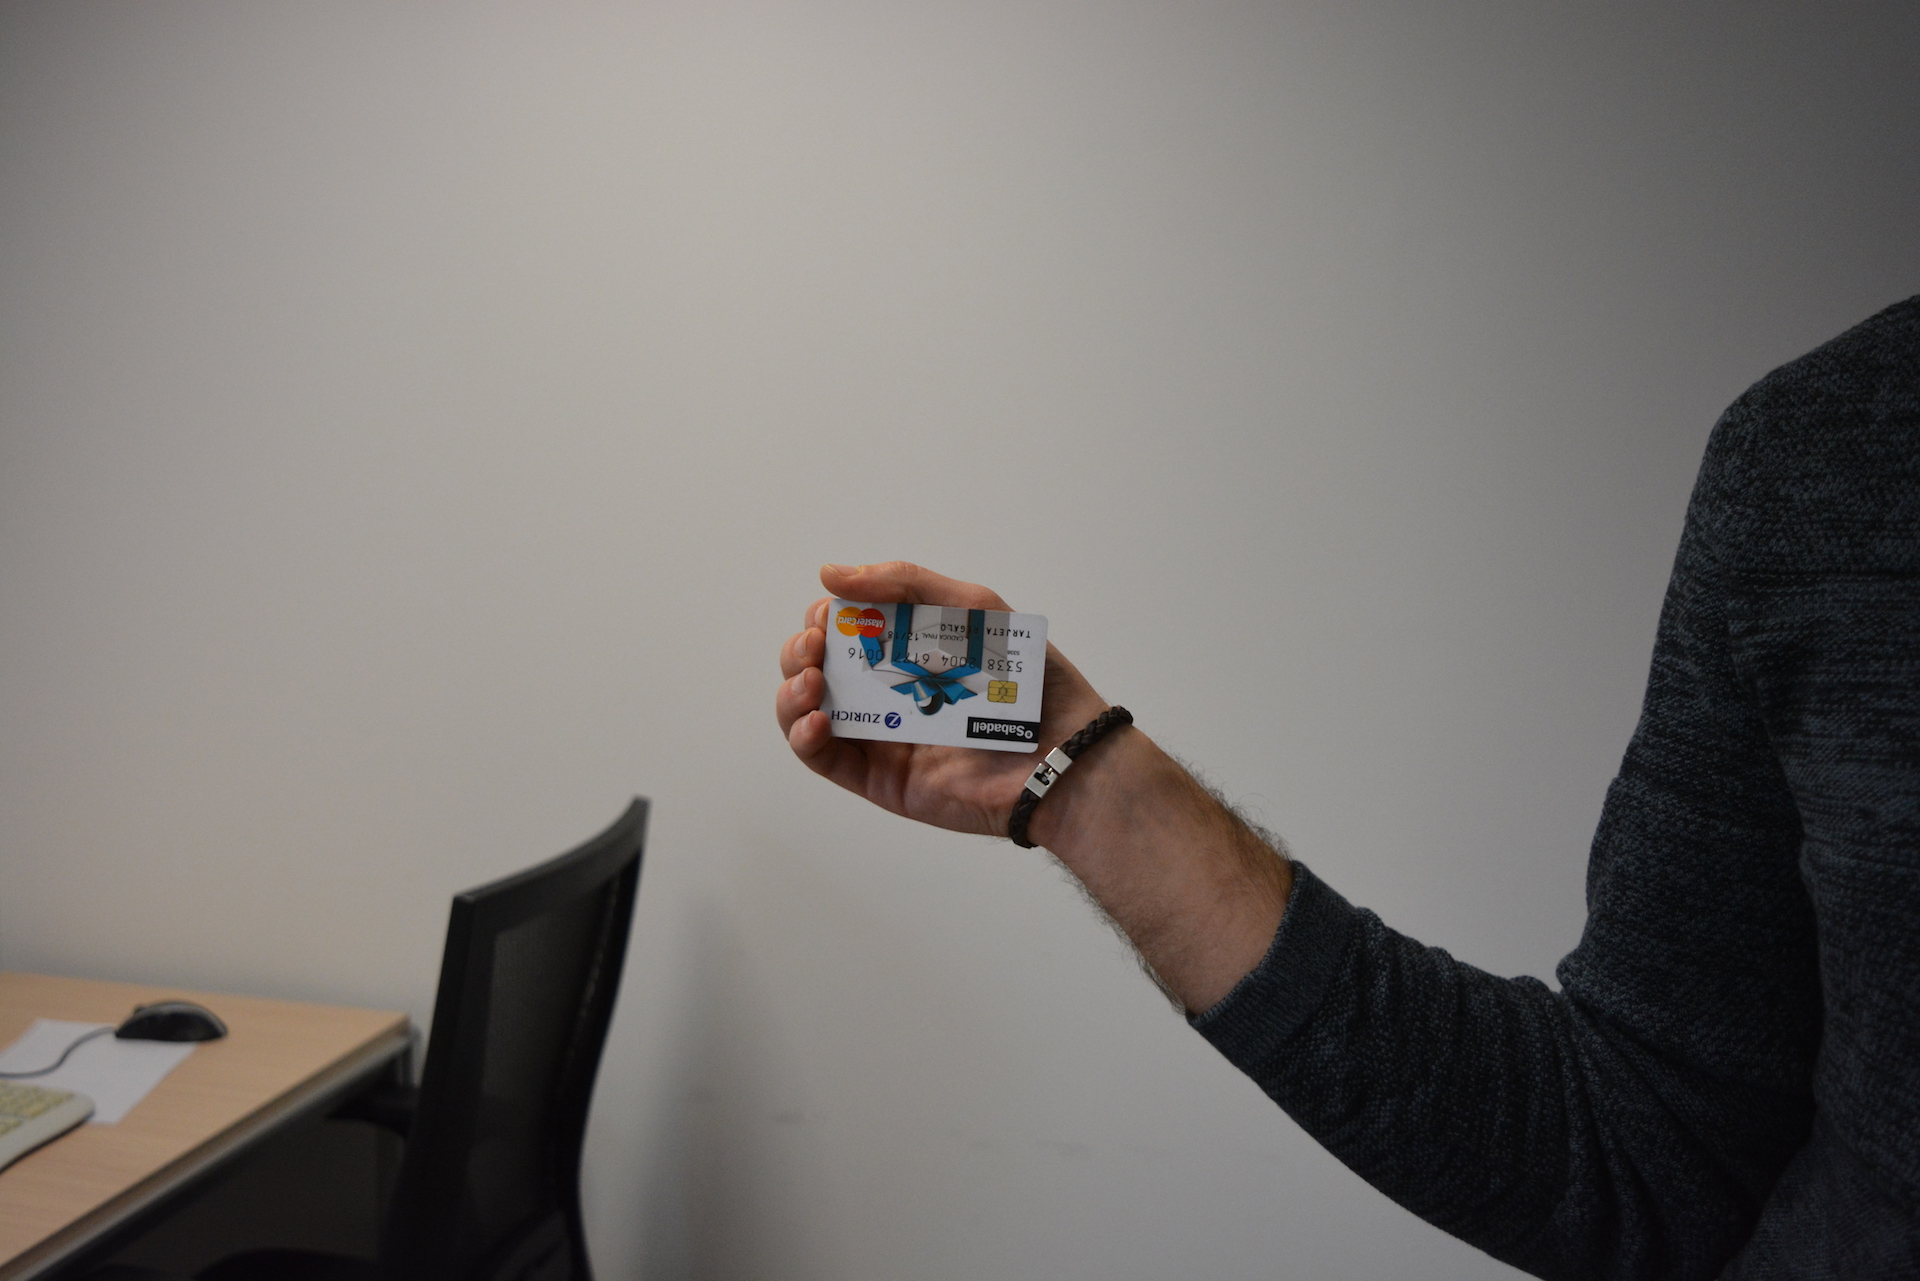tarjeta: (818, 598, 1049, 753)
